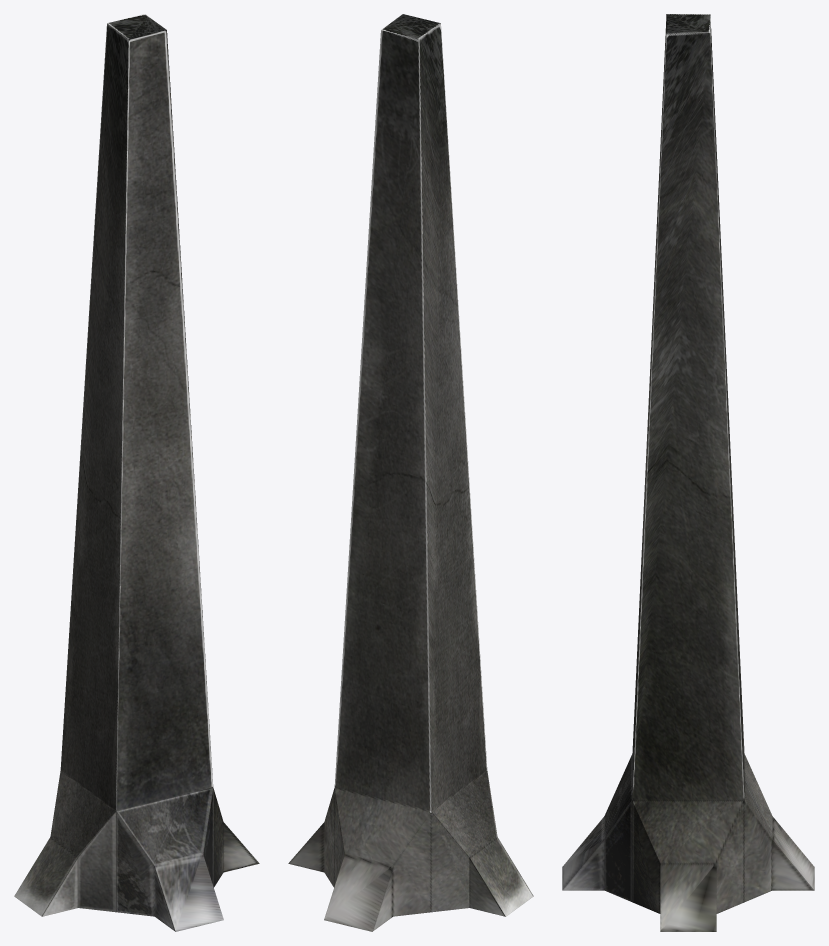
The model's file is metal_spike.obj.
3 views of the same model, side by side, from view 1: azimuth 30°, elevation 25°; view 2: azimuth 150°, elevation 25°; view 3: azimuth 270°, elevation 25° (orthographic).
Parts seen in each view (by area): view 1: Cube_Cube.001; view 2: Cube_Cube.001; view 3: Cube_Cube.001.
Part boxes in pixels (x1,y1,x2,y2): Cube_Cube.001: (14,14,259,931); Cube_Cube.001: (288,14,533,931); Cube_Cube.001: (562,14,814,931).
Bounding box in the file's own units: 4.5 × 16.85 × 4.5.
1 material, 1 textured.
